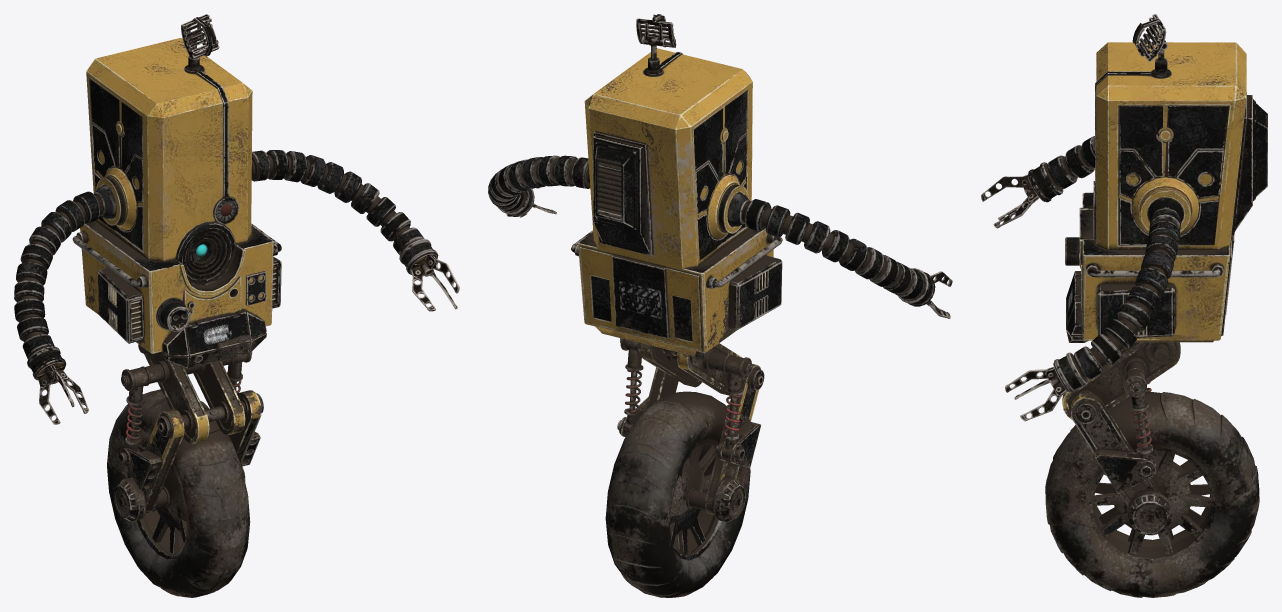
File: object2_web.glb
The picture shows the model from 3 angles, left to right: view 1: azimuth 30°, elevation 25°; view 2: azimuth 150°, elevation 25°; view 3: azimuth 270°, elevation 25°; orthographic projection. The views are drawn at different scales.
Visible parts, largest first — view 1: Cube; view 2: Cube; view 3: Cube.
Part boxes in pixels (x1,y1,x2,y2): Cube: (14, 14, 459, 597); Cube: (488, 14, 952, 597); Cube: (981, 14, 1267, 597).
Size of the model in its own units: 1.59 by 2.05 by 0.912.
Materials: 1 (1 with a texture image).
